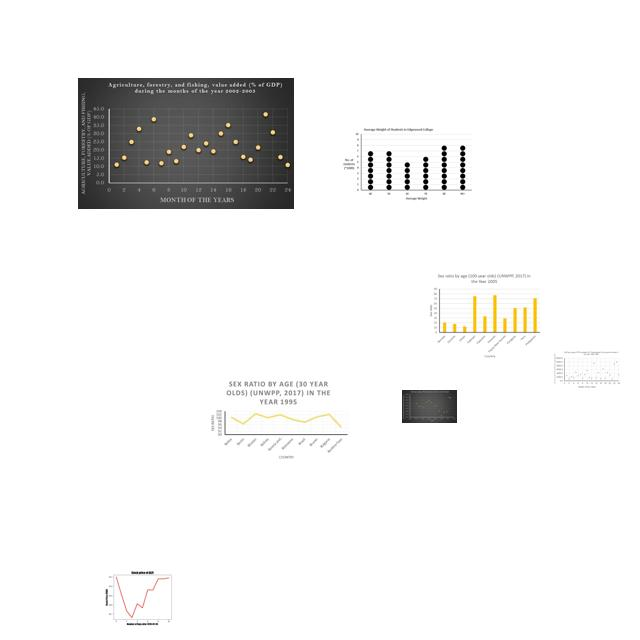Graph: (78, 78, 294, 209), (208, 378, 350, 461), (340, 125, 474, 203), (427, 273, 542, 360), (103, 568, 180, 626), (553, 349, 621, 389), (402, 390, 457, 423)
